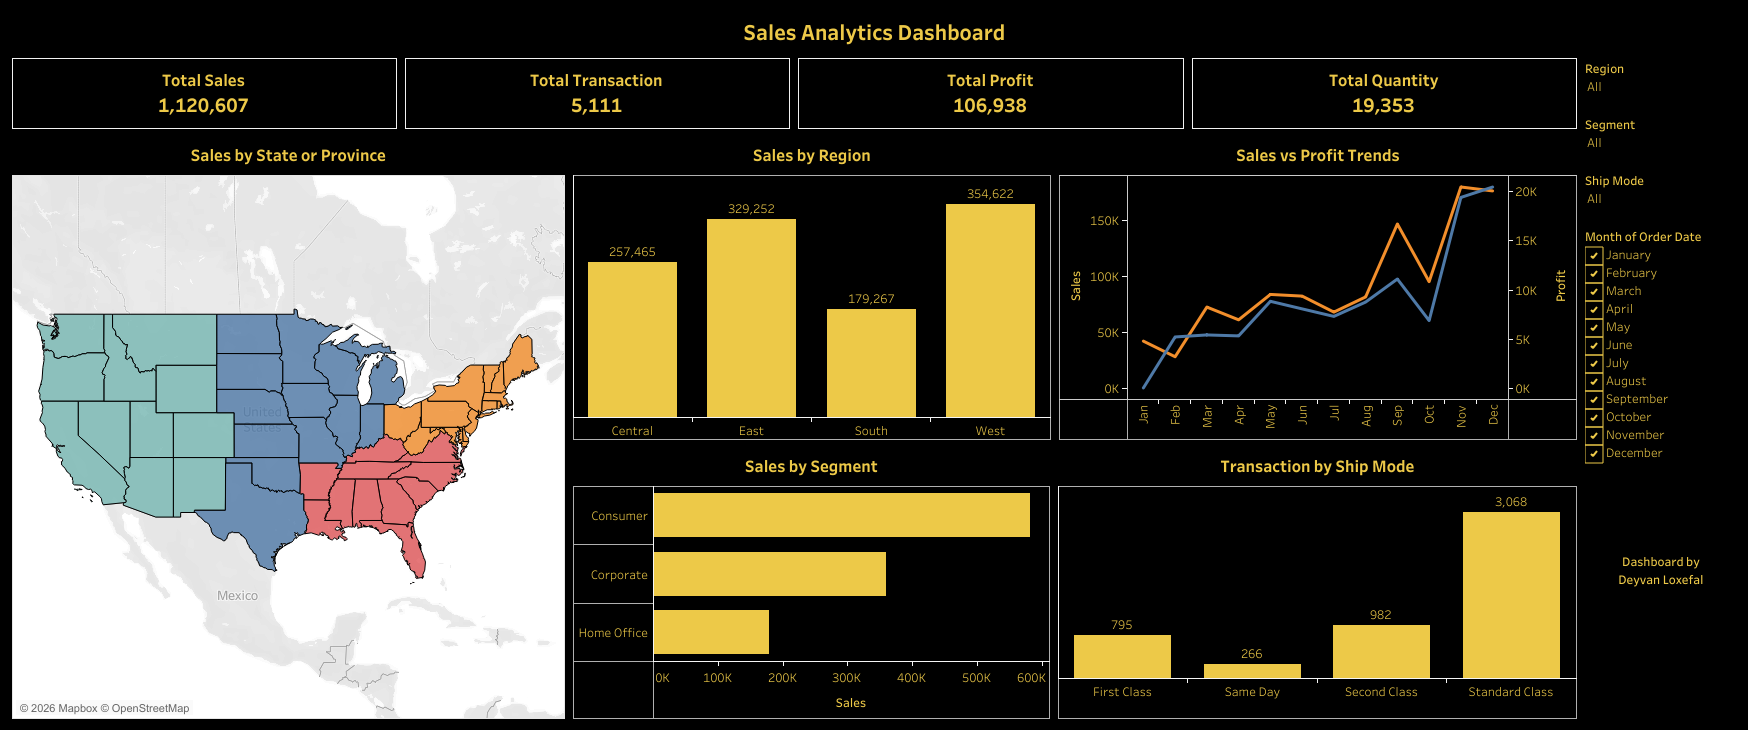

Layout of this report page (visuals, bound fields, positions):
{"tool":"tableau","page":{"name":"Dashboard 1","canvas":[1000,1000],"units":"permille","ordinal":0},"visuals":[{"type":"text","box":[6.9,12.7,986.1,63.3]},{"type":"worksheet","title":"Total Sales","mark":"Automatic","box":[6.9,75.9,211.9,107.7]},{"type":"worksheet","title":"Total Transaction","mark":"Automatic","box":[218.8,75.9,211.9,107.7]},{"type":"worksheet","title":"Total Profit","mark":"Automatic","box":[430.7,75.9,211.9,107.7]},{"type":"worksheet","title":"Total Quantity","mark":"Automatic","box":[642.6,75.9,211.9,107.7]},{"type":"filter","title":"Sales by Region","param":"[federated.0o6b7981vdea6m1bxec9j07unnkl].[none:Region:nk]","box":[854.5,75.9,138.5,82.3]},{"type":"filter","title":"Sales by Segment","param":"[federated.0o6b7981vdea6m1bxec9j07unnkl].[none:Segment:nk]","box":[854.5,158.2,138.5,82.3]},{"type":"worksheet","title":"Sales by State or Province","mark":"Multipolygon","box":[6.9,183.6,302.1,803.7]},{"type":"worksheet","title":"Sales by Region","mark":"Automatic","rows":["Sales"],"cols":["Region"],"box":[309,183.6,261.9,423.4]},{"type":"worksheet","title":"Sales vs Profit Trends","mark":"Automatic","rows":["Sales","Profit"],"cols":["Order Date"],"box":[571,183.6,283.6,423.4]},{"type":"filter","title":"Transaction by Ship Mode","param":"[federated.0o6b7981vdea6m1bxec9j07unnkl].[none:Ship Mode:nk]","box":[854.5,240.5,138.5,82.3]},{"type":"filter","title":"Sales vs Profit Trends","param":"[federated.0o6b7981vdea6m1bxec9j07unnkl].[mn:Order Date:ok]","box":[854.5,322.8,138.5,441.5]},{"type":"worksheet","title":"Sales by Segment","mark":"Automatic","rows":["Segment"],"cols":["Sales"],"box":[309,607.1,261.5,380.3]},{"type":"worksheet","title":"Transaction by Ship Mode","mark":"Automatic","rows":["Order ID"],"cols":["Ship Mode"],"box":[570.5,607.1,284,380.3]},{"type":"text","box":[876.2,849.7,93.5,66.5]}]}

Visuals, with their boxes on the dashboard's canvas, which has no fixed pixel size, in thousandths of its width and height (x1, y1, x2, y2). These are canvas units, not pixel positions in the 1748x730 screenshot, which may show the page scaled, cropped or inside an application window:
text: 7, 13, 993, 76
"Total Sales" worksheet: 7, 76, 219, 184
"Total Transaction" worksheet: 219, 76, 431, 184
"Total Profit" worksheet: 431, 76, 643, 184
"Total Quantity" worksheet: 643, 76, 854, 184
"Sales by Region" filter: 854, 76, 993, 158
"Sales by Segment" filter: 854, 158, 993, 240
"Sales by State or Province" worksheet (Multipolygon marks): 7, 184, 309, 987
"Sales by Region" worksheet: 309, 184, 571, 607
"Sales vs Profit Trends" worksheet: 571, 184, 855, 607
"Transaction by Ship Mode" filter: 854, 240, 993, 323
"Sales vs Profit Trends" filter: 854, 323, 993, 764
"Sales by Segment" worksheet: 309, 607, 570, 987
"Transaction by Ship Mode" worksheet: 570, 607, 854, 987
text: 876, 850, 970, 916
